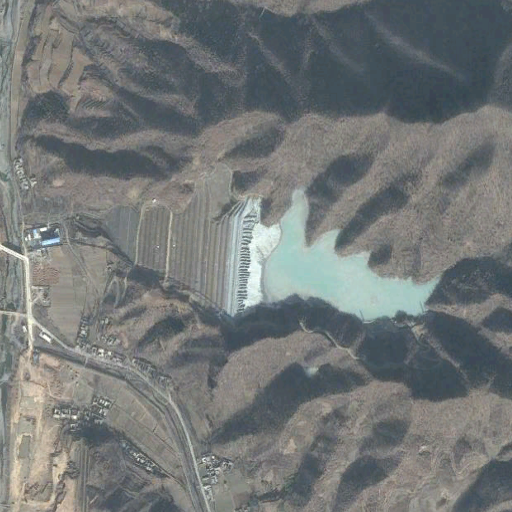tp: (101, 161, 442, 334)
